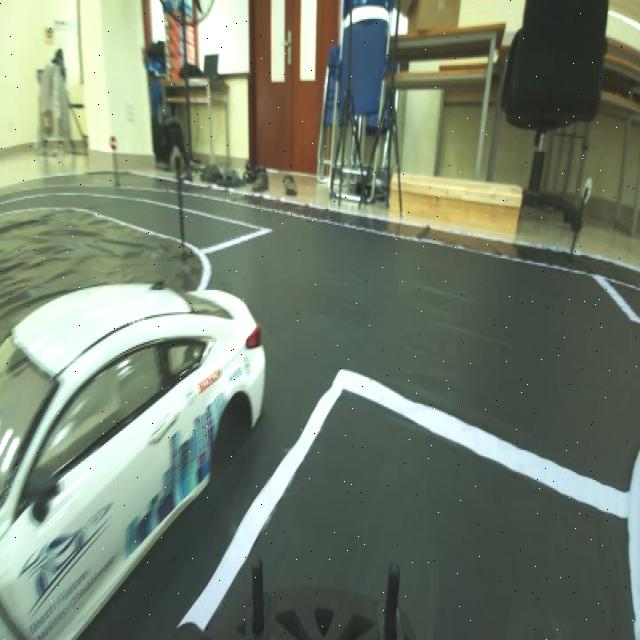car: (2, 259, 264, 620)
